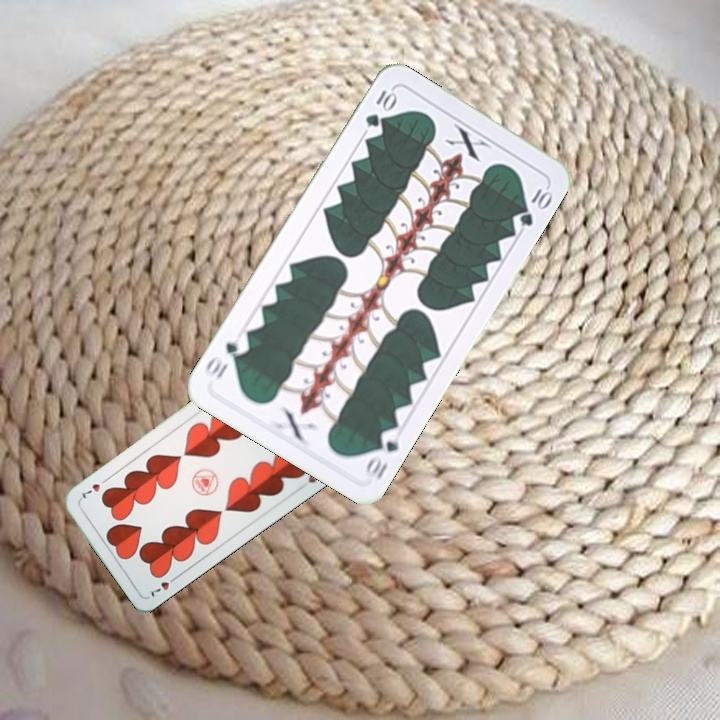G10: (361, 424, 404, 482), (361, 86, 399, 130)
H7: (147, 571, 181, 600)
